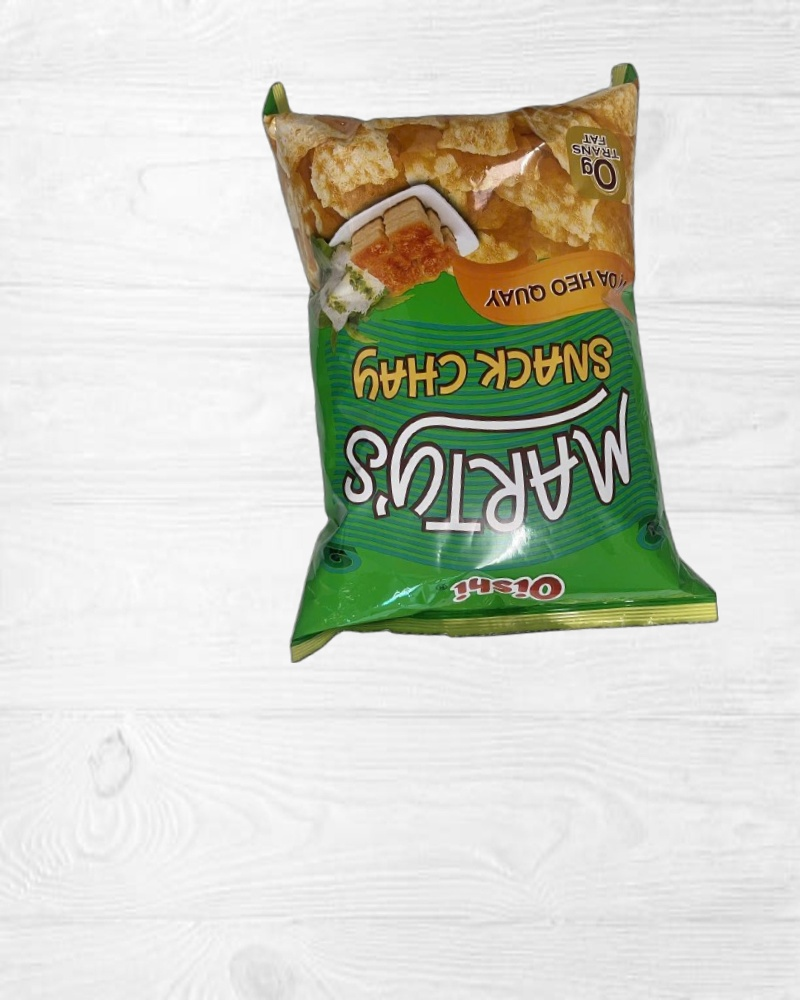Snack chay: (262, 50, 718, 662)
